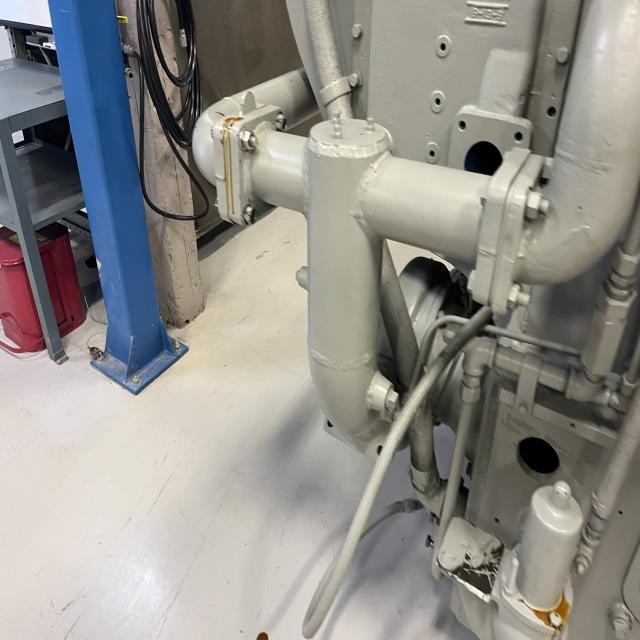Oil Leak: (211, 100, 280, 225), (527, 581, 572, 640), (256, 632, 269, 640)
